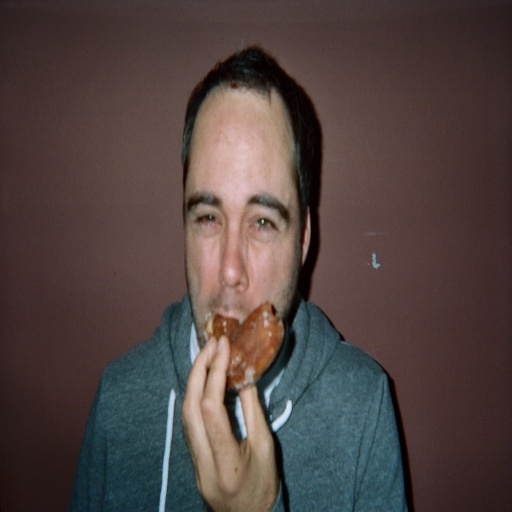hand: (176, 366, 278, 496)
